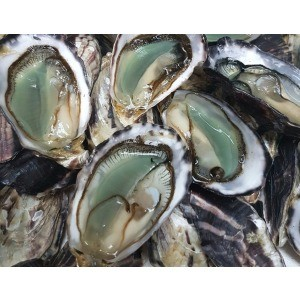oyster_brain food: (80, 107, 181, 261)
